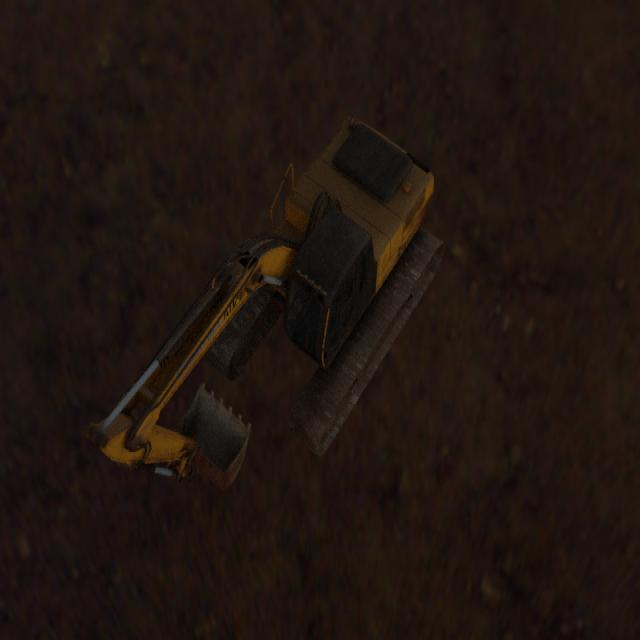excavator: (84, 113, 445, 490)
